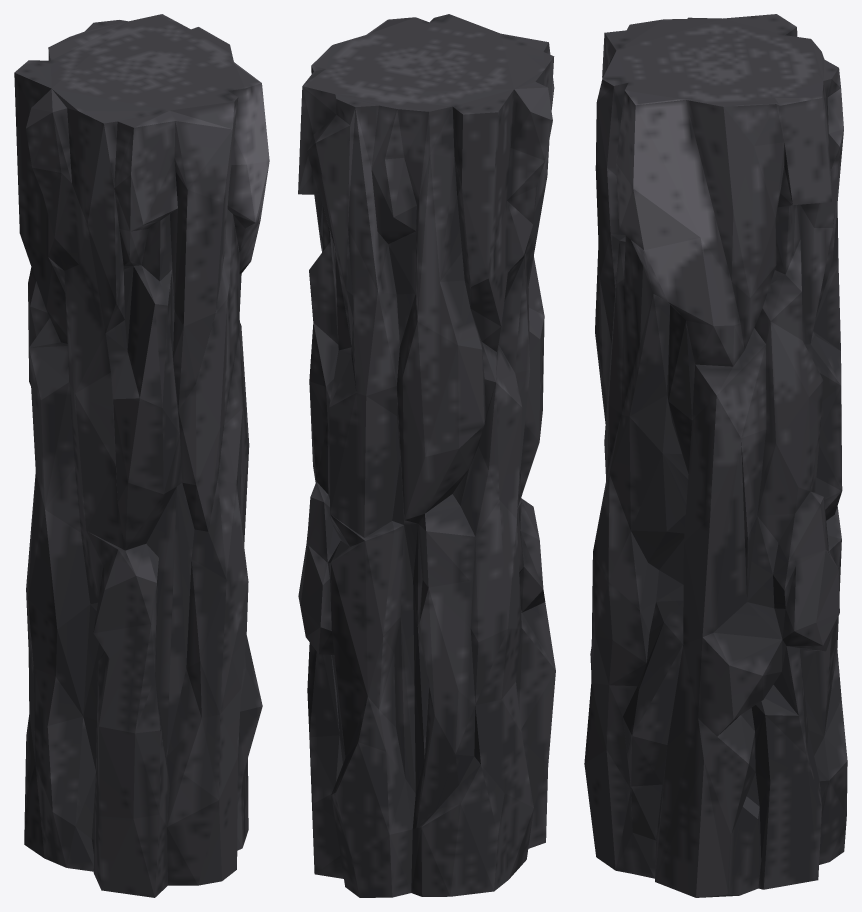
The model's file is SM_MeshyStalagnate.fbx.
The picture shows the model from 3 angles, left to right: view 1: azimuth 30°, elevation 25°; view 2: azimuth 150°, elevation 25°; view 3: azimuth 270°, elevation 25°; orthographic projection.
Visible parts, largest first — view 1: SM_MeshyStalagnate; view 2: SM_MeshyStalagnate; view 3: SM_MeshyStalagnate.
Boxes of the visible parts, x1,y1,x2,y2 form: SM_MeshyStalagnate: (14, 14, 269, 897); SM_MeshyStalagnate: (298, 14, 555, 897); SM_MeshyStalagnate: (584, 14, 847, 897).
Size of the model in its own units: 1.5 by 4.99 by 1.51.
Materials: 1 (1 with a texture image).
